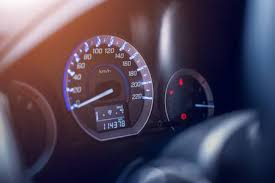Digital_Meter: (94, 119, 133, 131)
